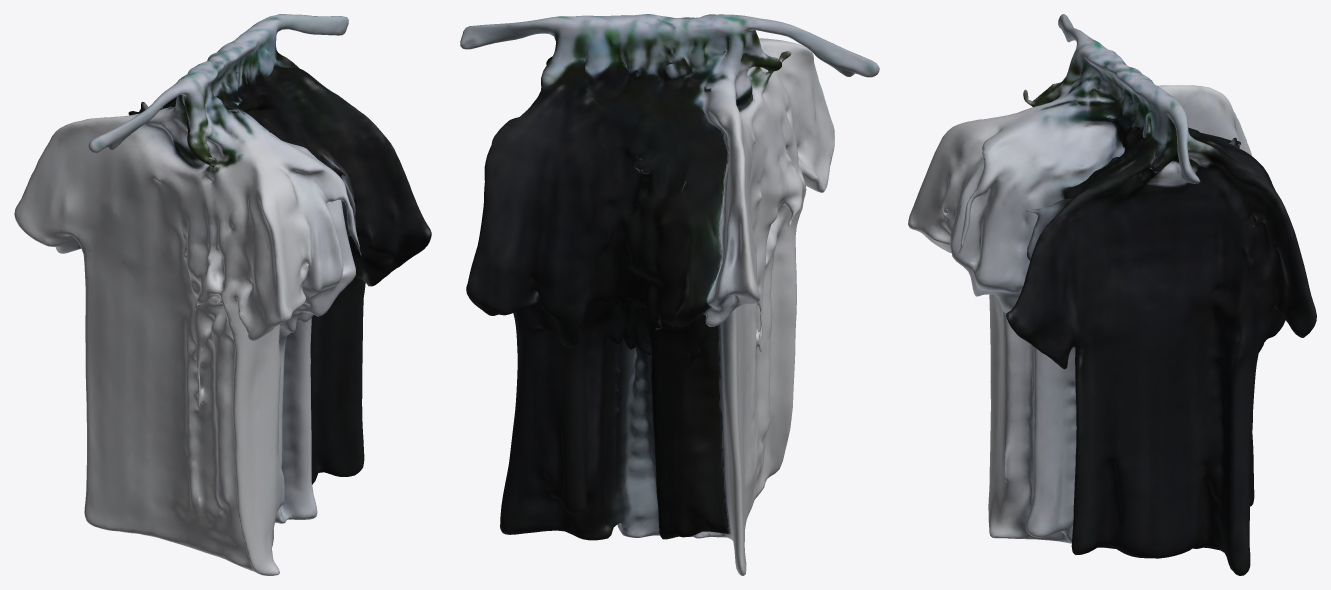
Rendered from b18ed895b460_several_tshirts_han.fbx.
The picture shows the model from 3 angles, left to right: view 1: azimuth 30°, elevation 25°; view 2: azimuth 150°, elevation 25°; view 3: azimuth 270°, elevation 25°; orthographic projection. The views are drawn at different scales.
Parts seen in each view (by area): view 1: high_poly; view 2: high_poly; view 3: high_poly.
Boxes of the visible parts, bbox=[...] form: high_poly: bbox=[14, 14, 431, 575]; high_poly: bbox=[460, 14, 879, 575]; high_poly: bbox=[908, 14, 1316, 575].
Bounding box in the file's own units: 71.41 × 100 × 77.87.
